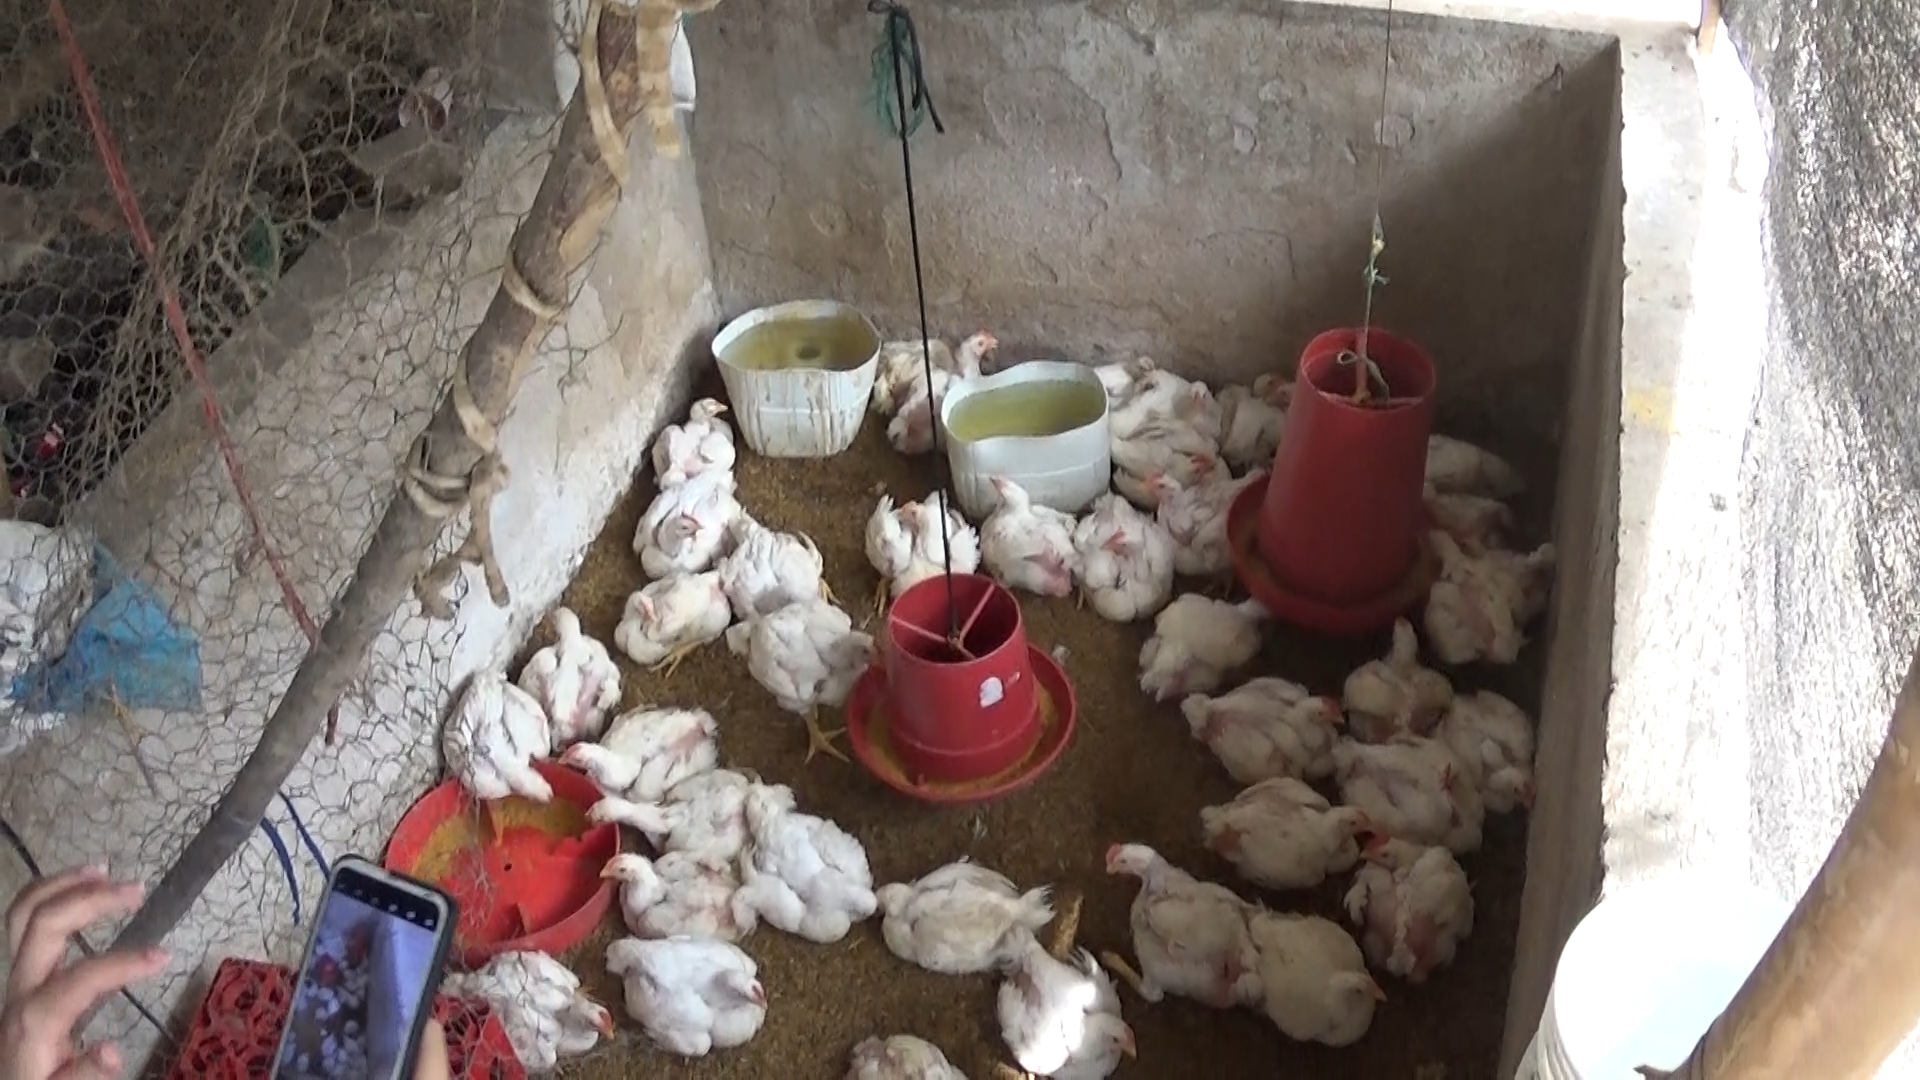Pollos: (1097, 827, 1261, 1025), (727, 762, 887, 948), (589, 924, 777, 1063), (735, 596, 894, 756), (986, 915, 1142, 1077), (1193, 773, 1378, 907), (1313, 717, 1501, 845), (1233, 901, 1387, 1055), (446, 939, 622, 1069), (849, 858, 1048, 971), (436, 665, 559, 835), (1350, 824, 1474, 990), (574, 765, 783, 862), (1175, 670, 1340, 782), (1407, 682, 1542, 818), (1131, 584, 1278, 708), (541, 707, 725, 802), (600, 835, 753, 948), (964, 464, 1083, 605), (1423, 518, 1535, 666), (694, 506, 831, 626), (1069, 485, 1175, 632), (1141, 465, 1262, 592), (1335, 607, 1455, 732), (516, 599, 620, 742), (608, 564, 735, 680), (889, 323, 996, 450), (861, 481, 977, 597), (633, 467, 736, 580), (644, 396, 741, 488), (1112, 430, 1228, 506), (1108, 363, 1221, 435), (1207, 367, 1280, 465), (1420, 473, 1515, 542), (1085, 342, 1175, 388), (1265, 376, 1305, 417)
